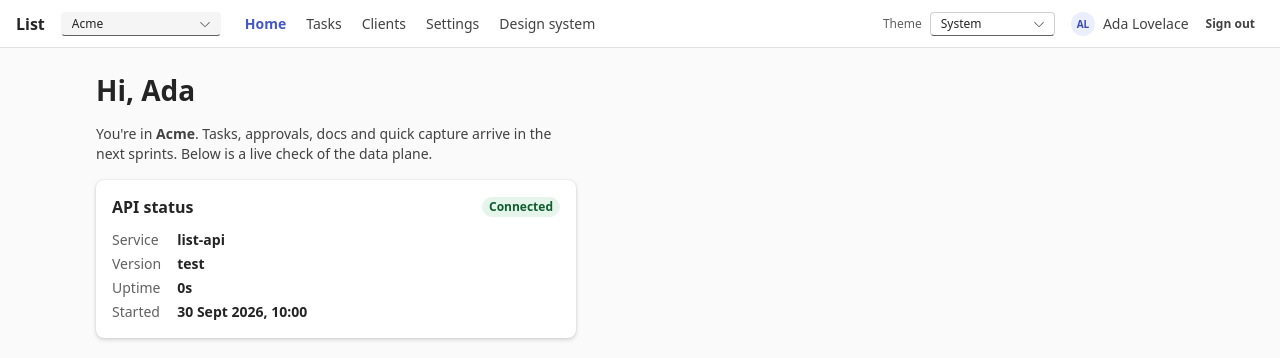
signed in with a workspace › switching workspace goes through the worker and refreshes the session
Select "Beta" in the dropdown named "Workspace" at (141, 24), box [61, 12, 221, 36]
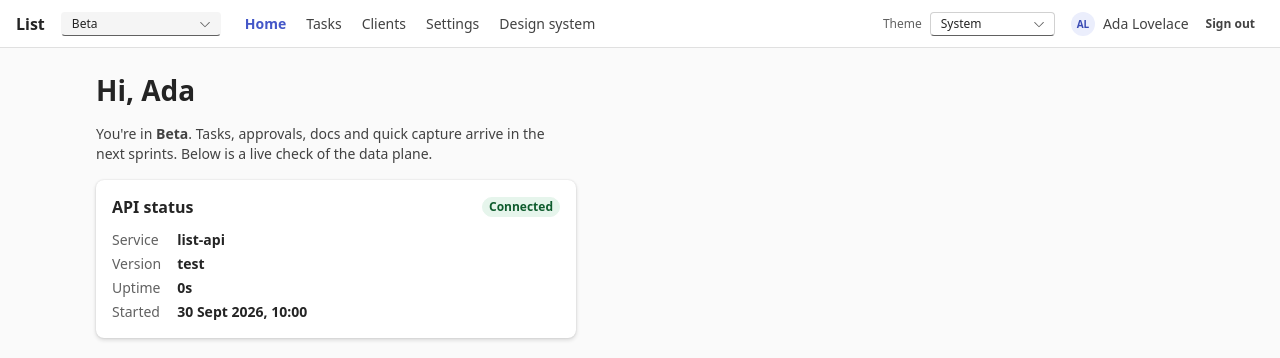
Expected: the text "Beta" is shown, [156, 124, 188, 143]
